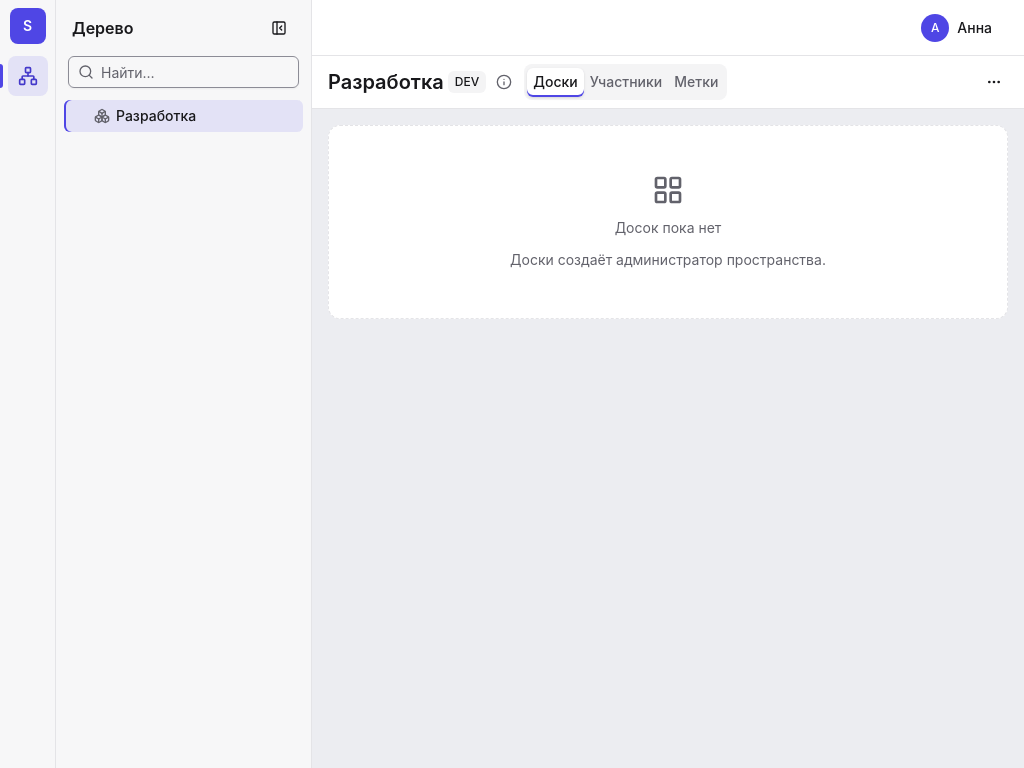
Страница пространства › участник видит пометку «только свои карточки» без переключателя
Click the tab "Участники".
click(626, 82)  # box [584,68,668,96]
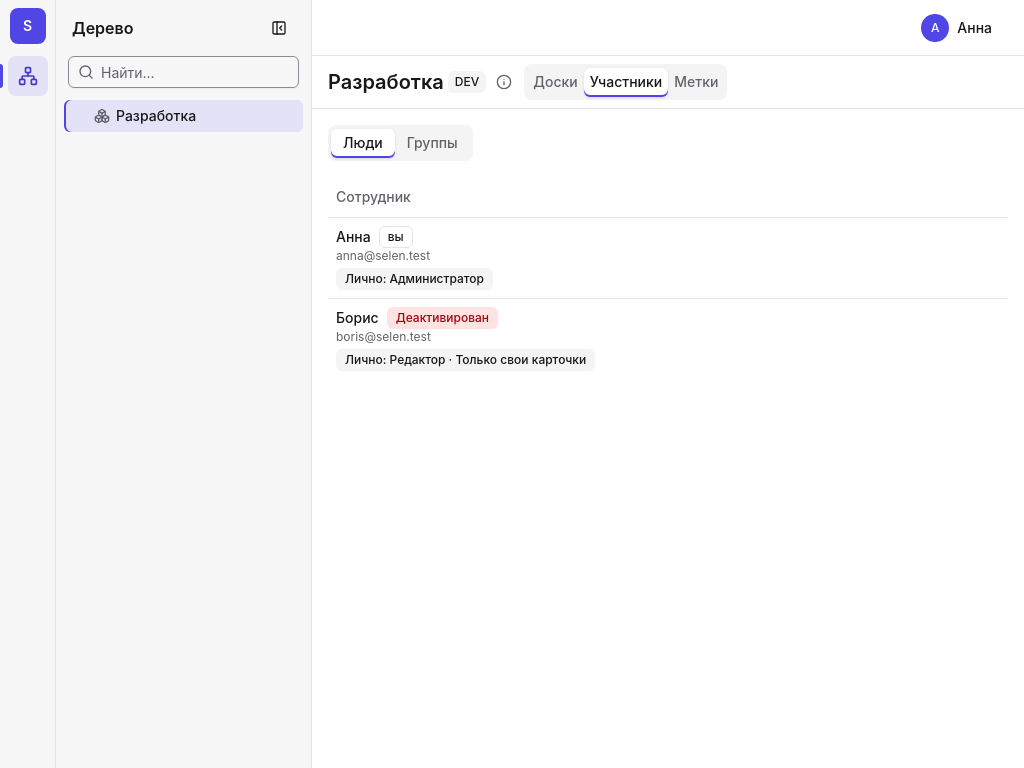
Expected: the text "Лично: Редактор · Только свои карточки" is shown, [336,348,595,370]
